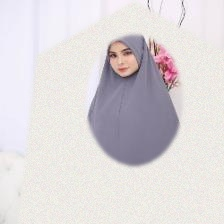Mukena: (22, 21, 224, 224)
